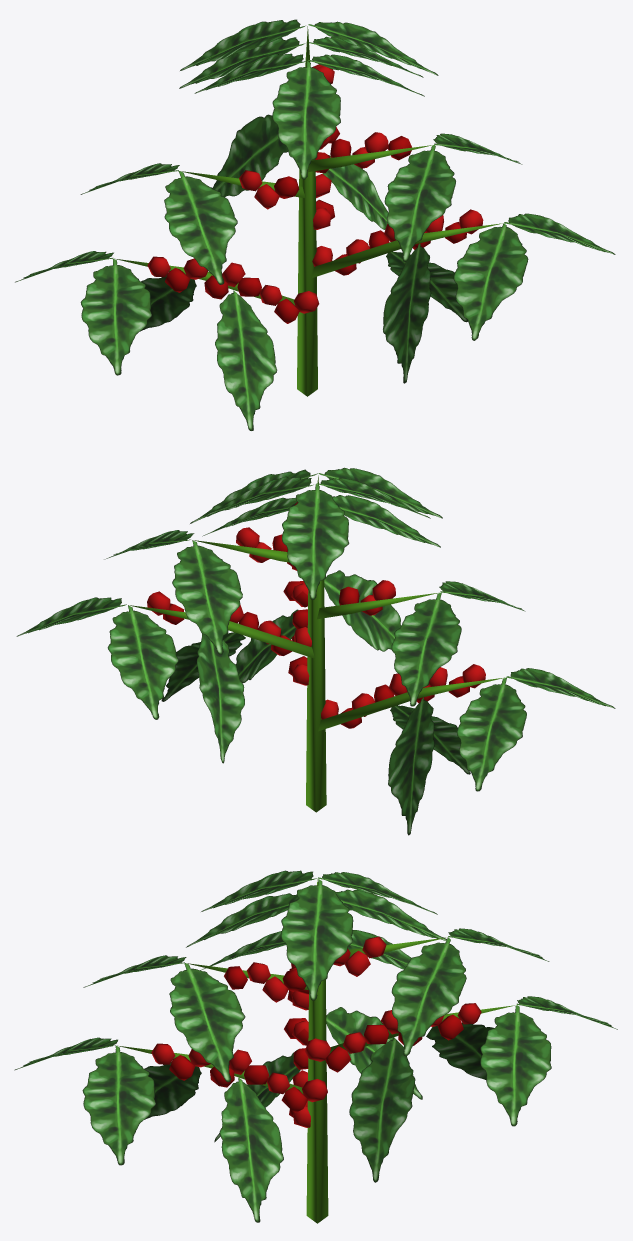
The model's file is café maduro.fbx.
3 views of the same model, one above another, from view 1: azimuth 30°, elevation 25°; view 2: azimuth 150°, elevation 25°; view 3: azimuth 270°, elevation 25° (orthographic). The views are drawn at different scales.
Visible parts, largest first — view 1: café maduro; view 2: café maduro; view 3: café maduro.
Part boxes in pixels (left/top/right/bottom): café maduro: left=15, top=19, right=615, bottom=430; café maduro: left=16, top=467, right=615, bottom=835; café maduro: left=14, top=870, right=617, bottom=1223.
Size of the model in its own units: 537 by 358 by 578.
4 materials, 1 textured.
